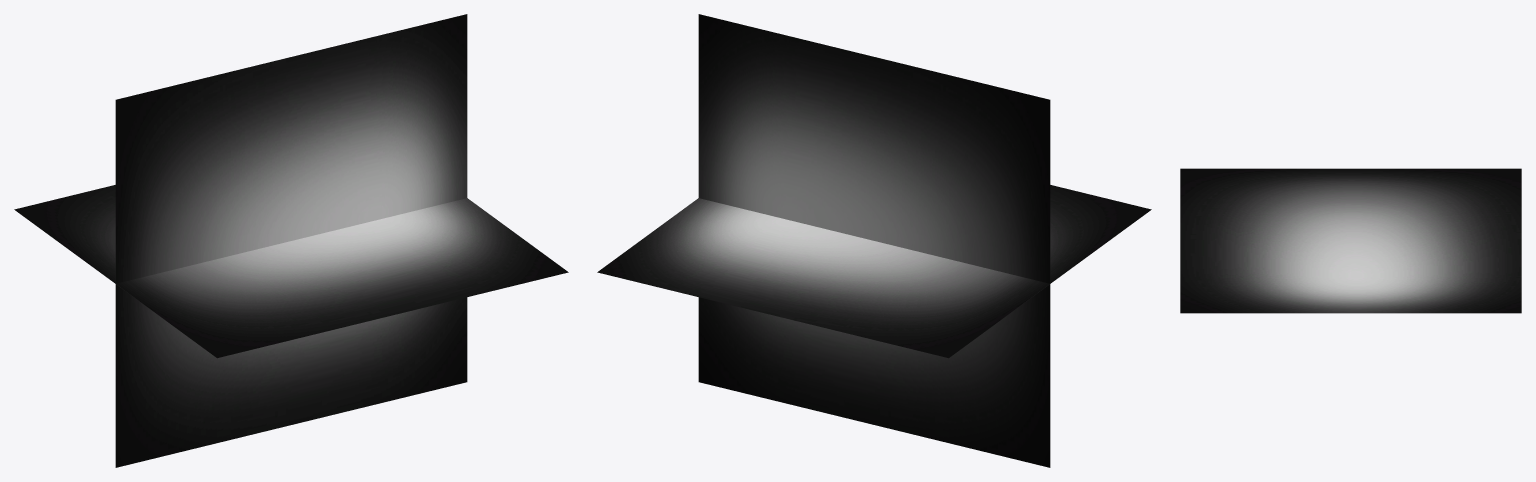
Rendered from LightMesh.fbx.
The picture shows the model from 3 angles, left to right: view 1: azimuth 30°, elevation 25°; view 2: azimuth 150°, elevation 25°; view 3: azimuth 270°, elevation 25°; orthographic projection. The views are drawn at different scales.
Parts seen in each view (by area): view 1: SM_e_cmn_CrossBoard001.mo; view 2: SM_e_cmn_CrossBoard001.mo; view 3: SM_e_cmn_CrossBoard001.mo.
Part boxes in pixels (x1,y1,x2,y2): SM_e_cmn_CrossBoard001.mo: (14,14,568,467); SM_e_cmn_CrossBoard001.mo: (597,14,1151,467); SM_e_cmn_CrossBoard001.mo: (1180,168,1521,313).
Size of the model in its own units: 100 by 100 by 100.
